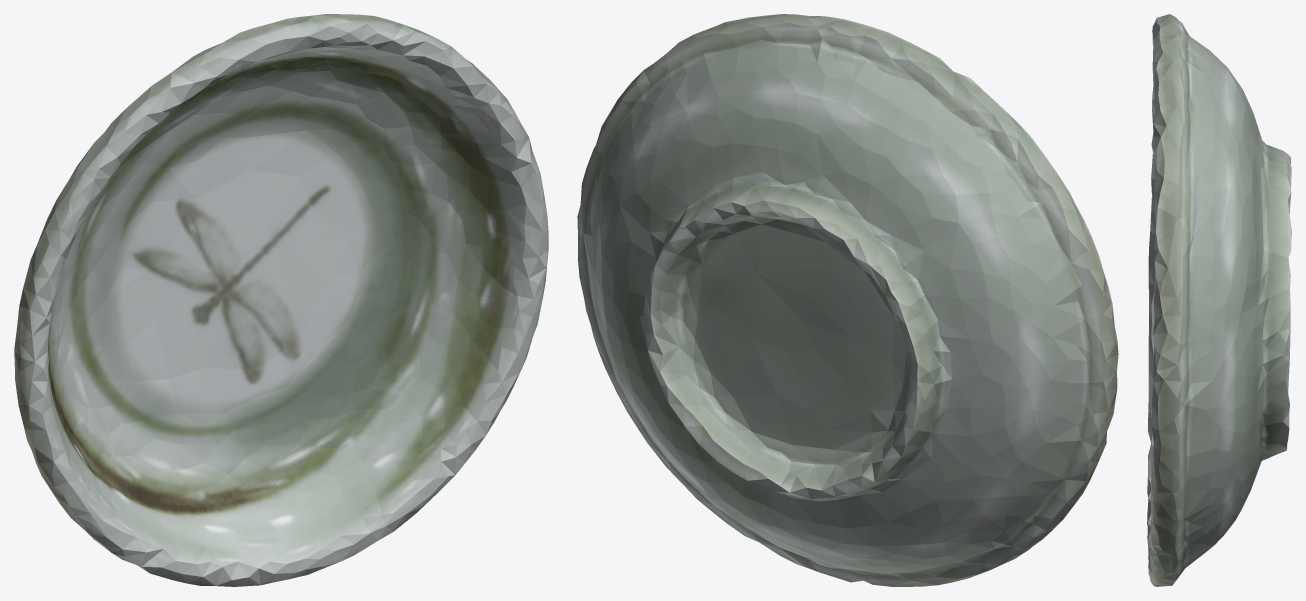
The picture shows the model from 3 angles, left to right: view 1: azimuth 30°, elevation 25°; view 2: azimuth 150°, elevation 25°; view 3: azimuth 270°, elevation 25°; orthographic projection. The views are drawn at different scales.
Bounding box in the file's own units: 0.0966 × 0.0964 × 0.0244.
Materials: 1 (1 with a texture image).
